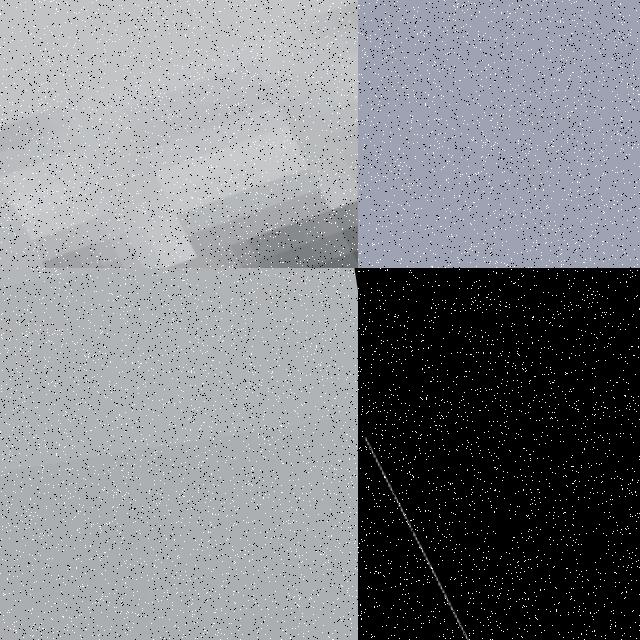0: (0, 0, 358, 268)
drone: (358, 268, 640, 640)
